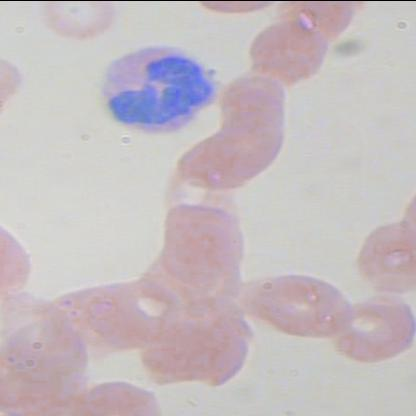RBC: (244, 262, 361, 346), (328, 284, 415, 368), (154, 213, 240, 280), (250, 18, 336, 84), (158, 164, 244, 230), (160, 196, 245, 262), (350, 215, 415, 301), (72, 370, 165, 415), (40, 1, 118, 45)
WBC: (87, 30, 224, 142)
